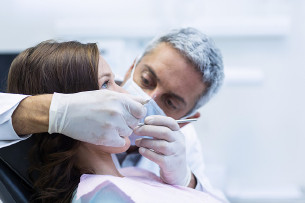face: (82, 56, 132, 153)
face_mask: (125, 45, 203, 141)
